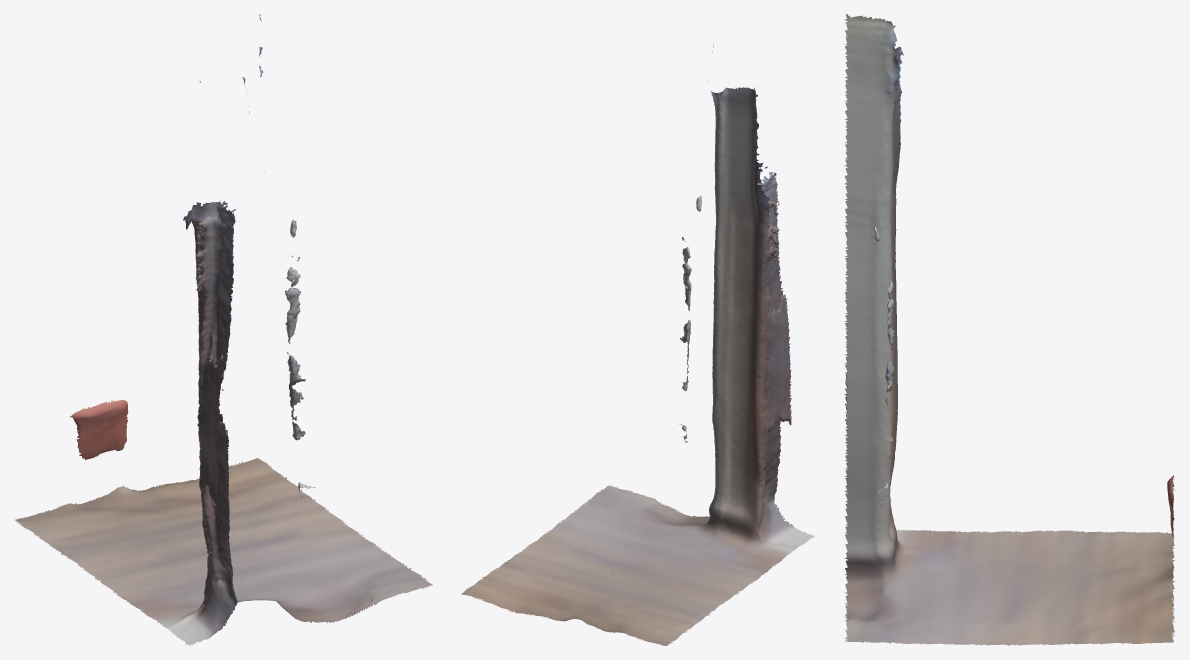
Rendered from apartment-full-69-4dd392f63271.glb.
3 renders of one model, left to right at view 1: azimuth 30°, elevation 25°; view 2: azimuth 150°, elevation 25°; view 3: azimuth 270°, elevation 25°, orthographic. The views are drawn at different scales.
Bounding box in the file's own units: 0.794 × 1.86 × 0.98.
